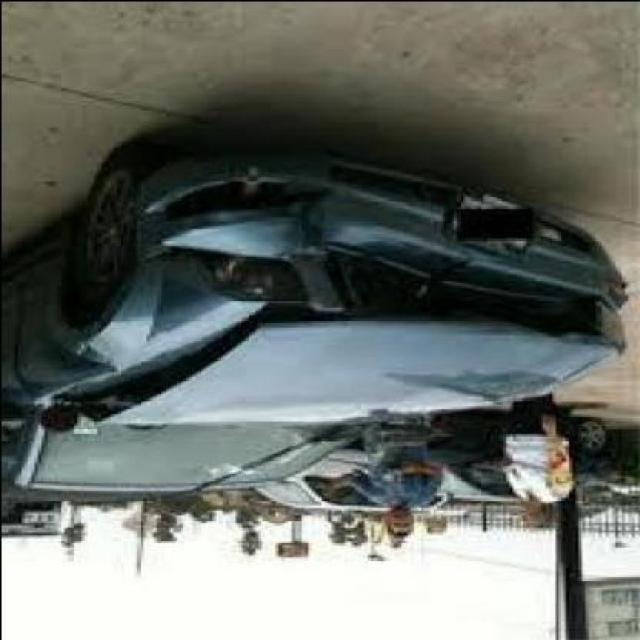damage: (45, 156, 620, 419)
